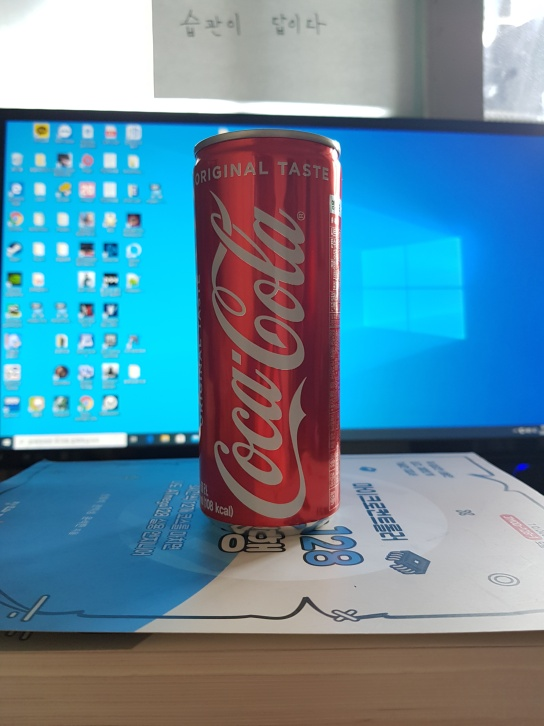Can: (191, 128, 348, 534)
